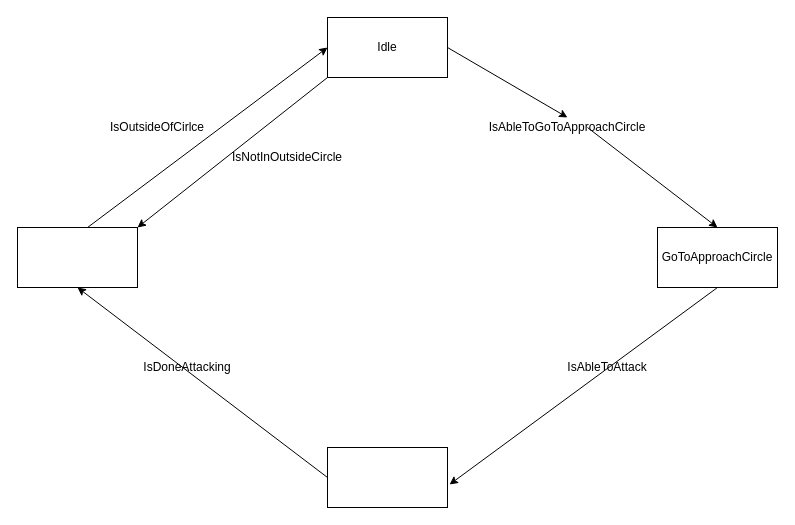
The diagram is 795 pixels wide and 525 high, and some of its shapes have lost their labels. Each missing label, with the centre of its shape:
"Attack" belongs at point 387,477.
"Leave Circle" belongs at point 77,257.
